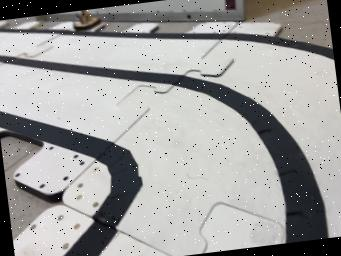street: (0, 27, 341, 256), (0, 27, 341, 256), (0, 27, 341, 256), (0, 27, 341, 256), (0, 27, 341, 256), (0, 27, 341, 256)
